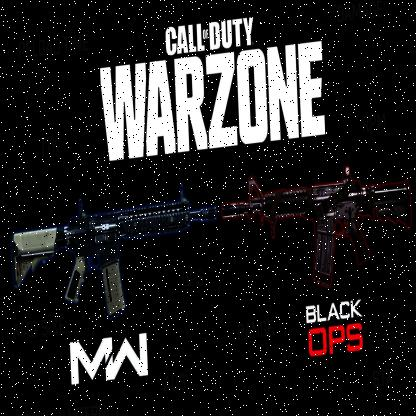rifle: (8, 175, 220, 330), (220, 156, 414, 294)
